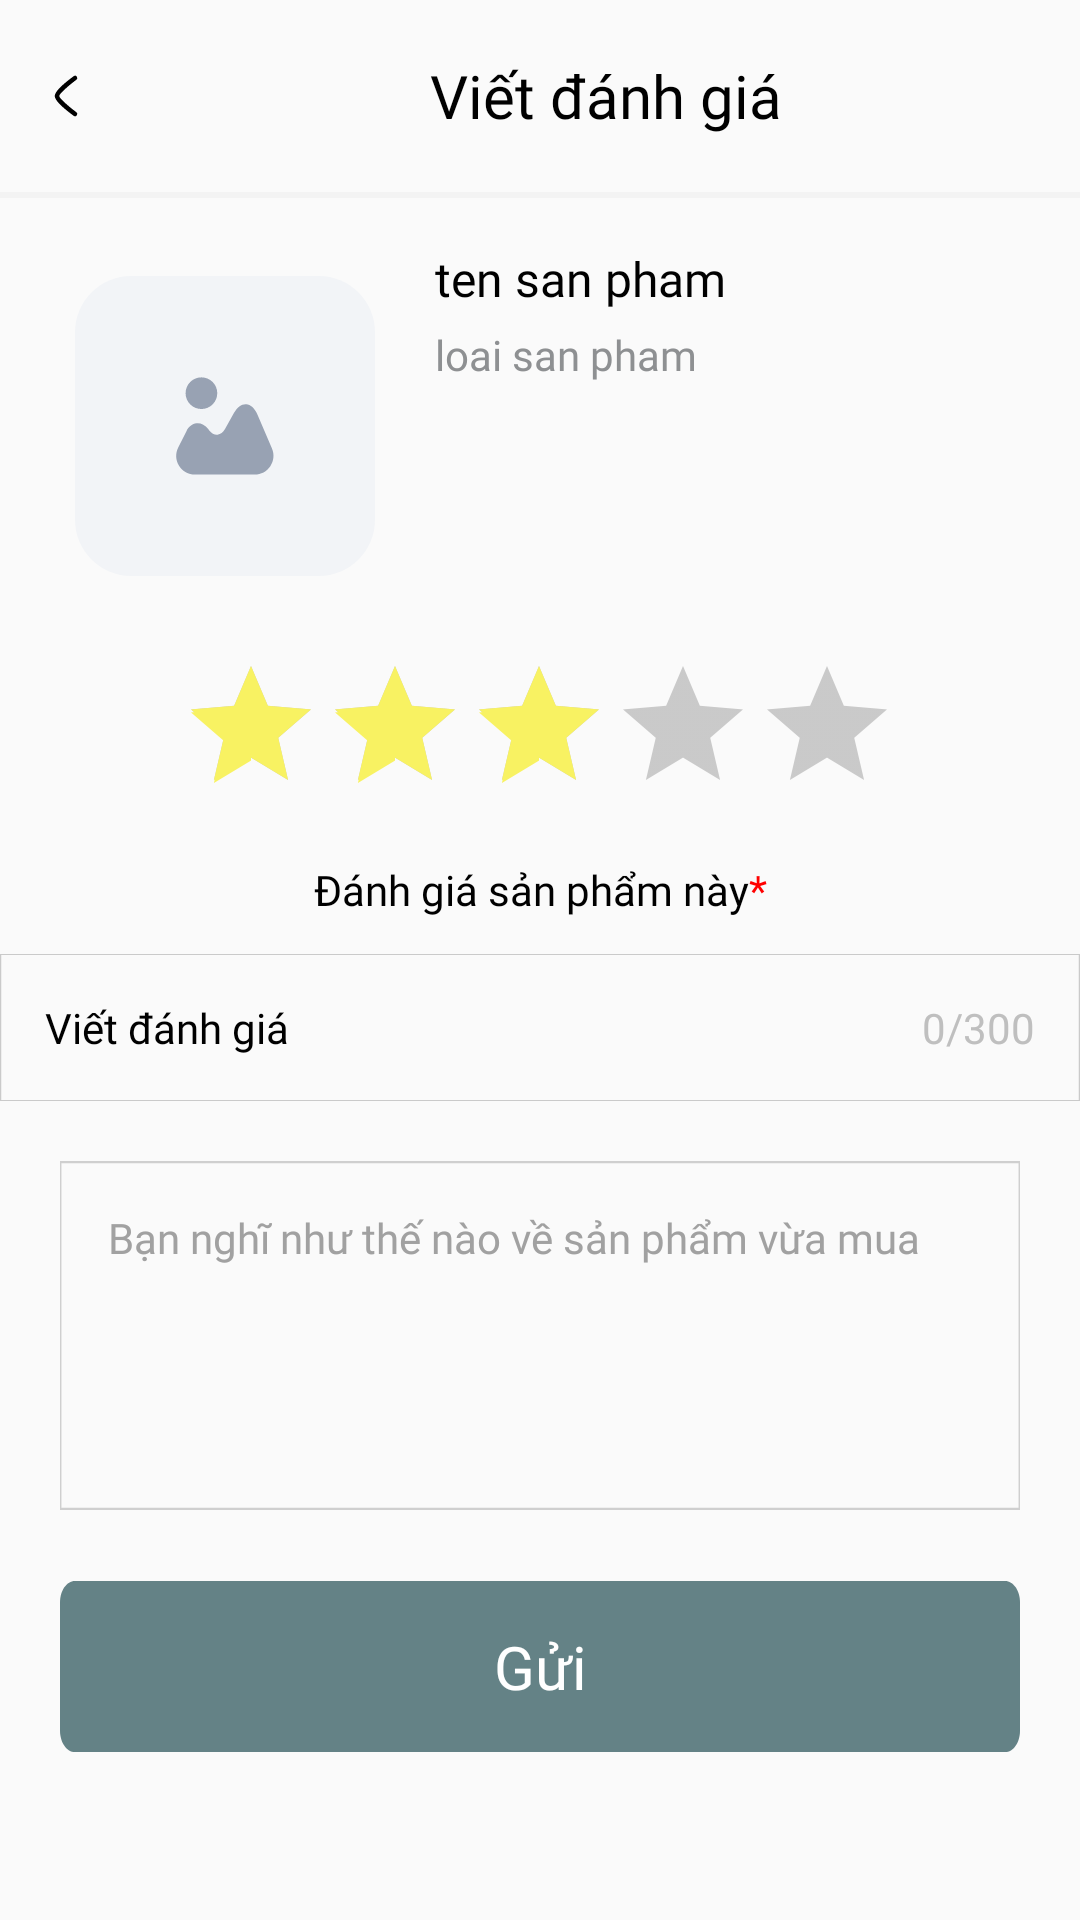

Screen size 1080x1920. Icon name, then its center in pixels as (x=x, y=y):
back: (x=66, y=96)
